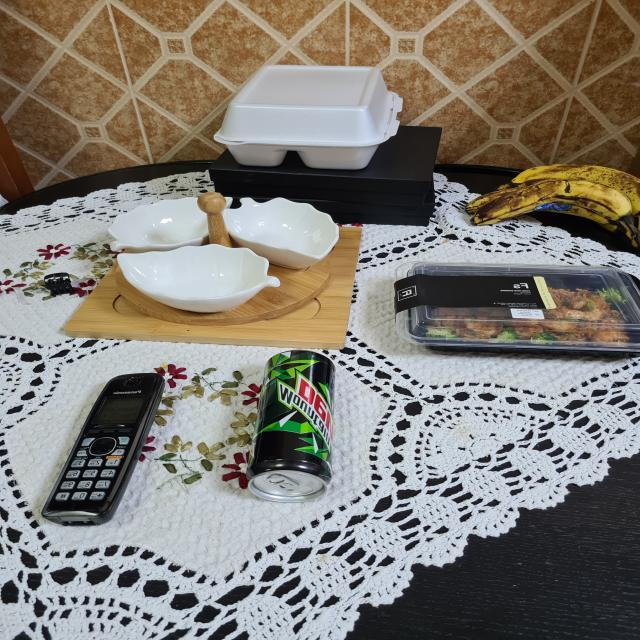can: (243, 346, 334, 504)
